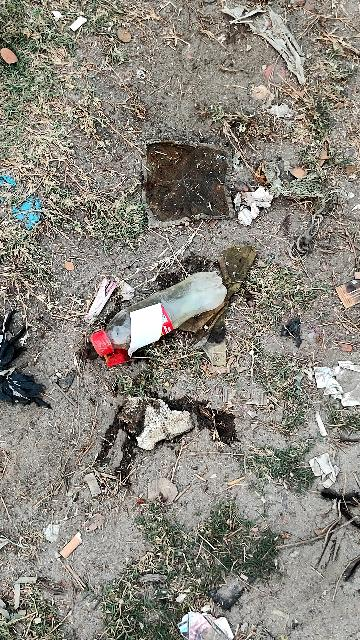bottle: (83, 261, 237, 367)
